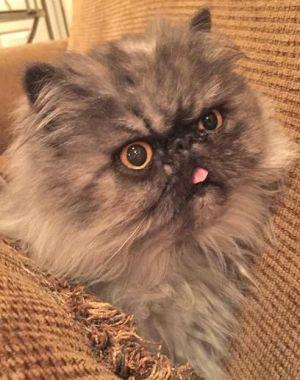persian: (20, 1, 283, 273)
